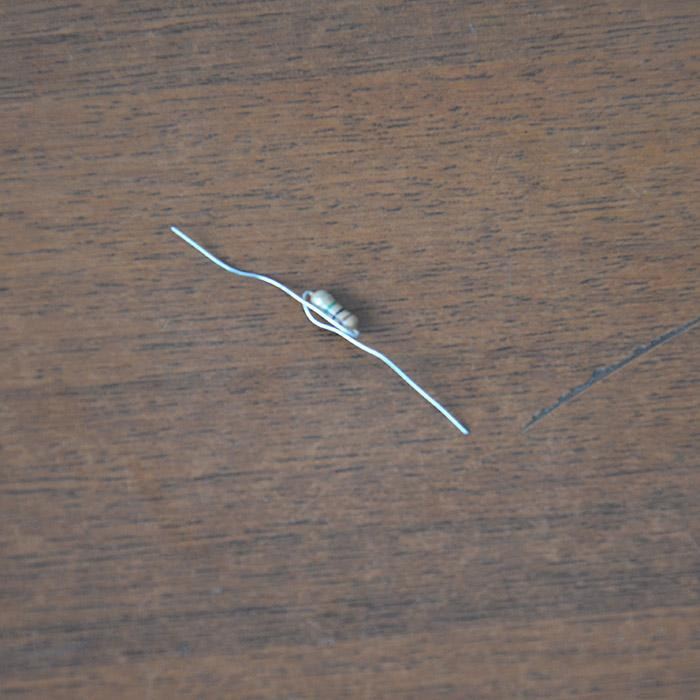resistor: (304, 288, 359, 334)
